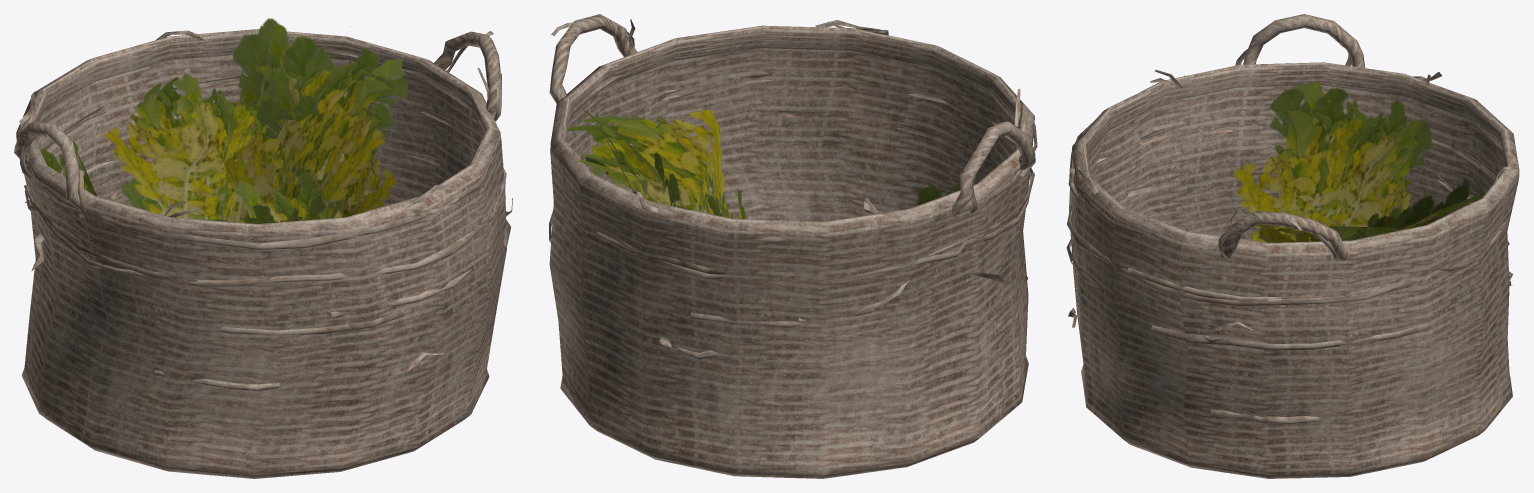
File: basket_turnips.glb
3 renders of one model, left to right at view 1: azimuth 30°, elevation 25°; view 2: azimuth 150°, elevation 25°; view 3: azimuth 270°, elevation 25°, orthographic. The views are drawn at different scales.
Parts seen in each view (by area): view 1: basket turnips_Wicker_0; view 2: basket turnips_Wicker_0; view 3: basket turnips_Wicker_0.
Part boxes in pixels (bbox=[...]): basket turnips_Wicker_0: bbox=[14, 18, 512, 478]; basket turnips_Wicker_0: bbox=[549, 14, 1037, 478]; basket turnips_Wicker_0: bbox=[1066, 14, 1519, 478].
Size of the model in its own units: 0.5735 by 0.3759 by 0.5304.
2 materials, 2 textured.
